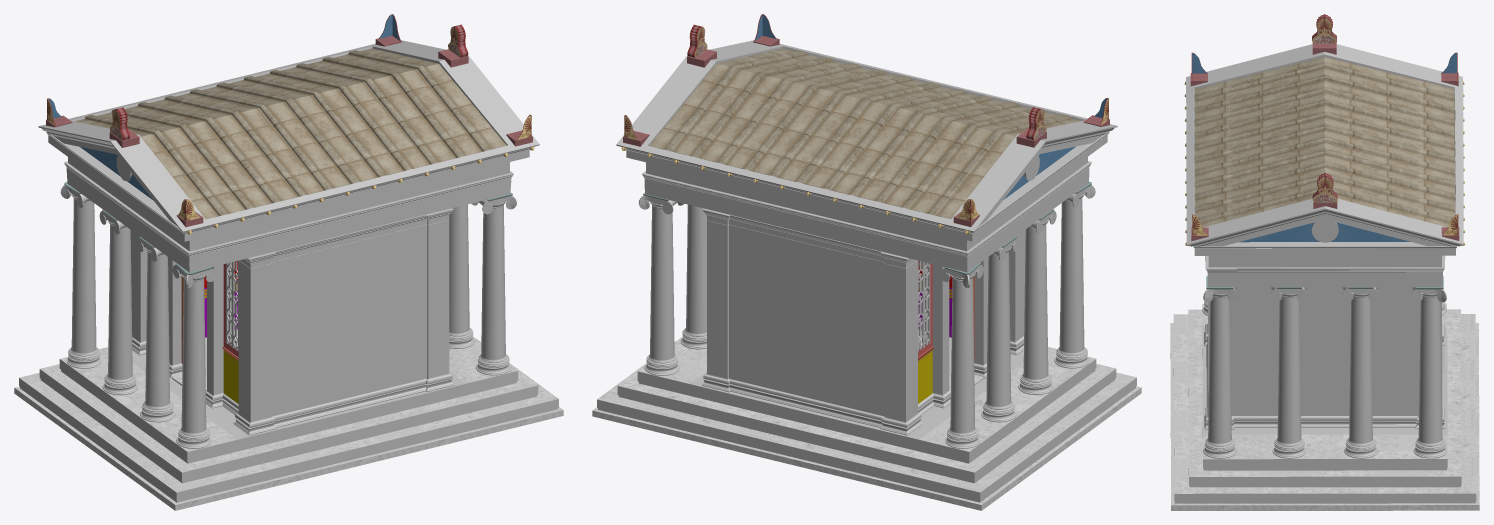
File: Mh_Temple_Nike.fbx
The picture shows the model from 3 angles, left to right: view 1: azimuth 30°, elevation 25°; view 2: azimuth 150°, elevation 25°; view 3: azimuth 270°, elevation 25°; orthographic projection. The views are drawn at different scales.
Visible parts, largest first — view 1: Mh_Temple; view 2: Mh_Temple; view 3: Mh_Temple.
Part boxes in pixels (left/top/right/bottom): Mh_Temple: left=14, top=14, right=563, bottom=510; Mh_Temple: left=592, top=14, right=1141, bottom=510; Mh_Temple: left=1170, top=14, right=1479, bottom=510.
Bounding box in the file's own units: 934 × 775 × 669.
